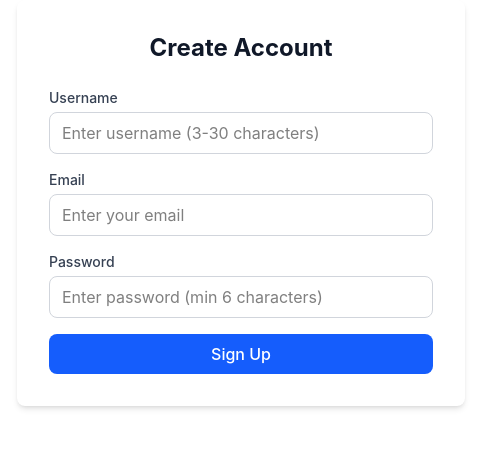
Test: SignUp Component › Email Validation - Requirement 1.5 › should show error for invalid email format on blur
Type "testuser" into the field labelled "Username" at (241, 133), box [49, 112, 433, 154]
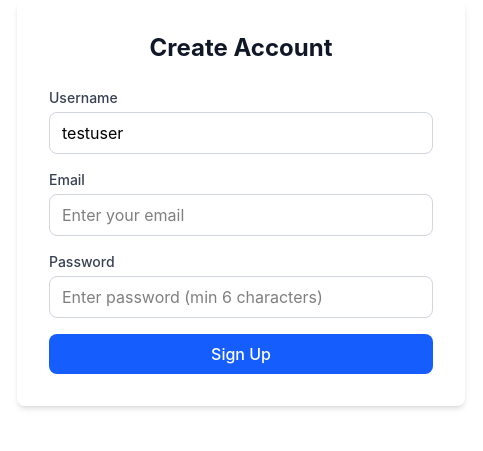
Type "invalid-email" into the field labelled "Email" at (241, 215), box [49, 194, 433, 236]
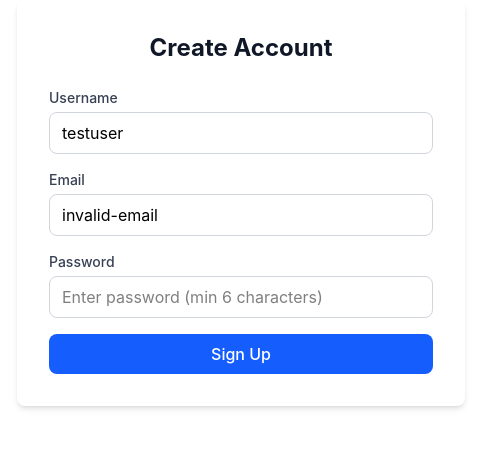
Type "password123" into the password field labelled "Password" at (241, 297), box [49, 276, 433, 318]
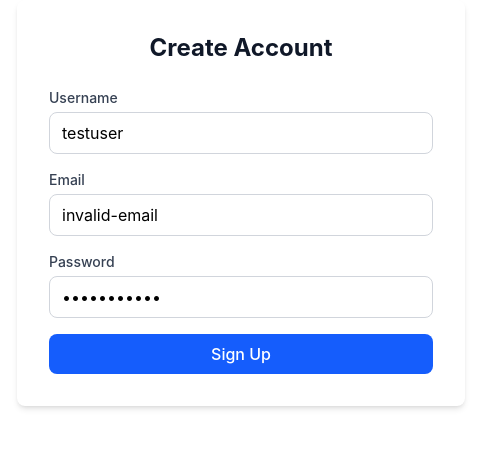
# Submit the form - this will trigger validation
Submit the form "Username Email Password Sign Up", box [49, 88, 433, 374]
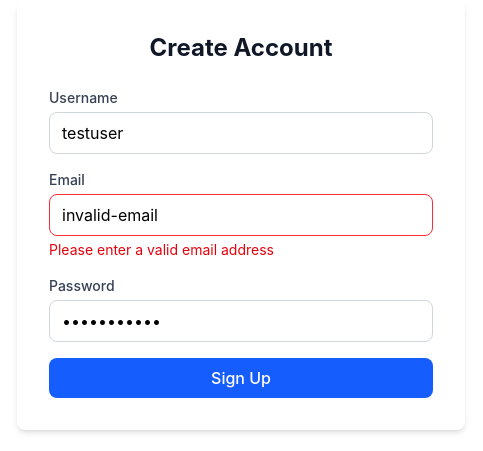
expect the text "Please enter a valid email address" is shown: met, box [49, 241, 274, 258]
